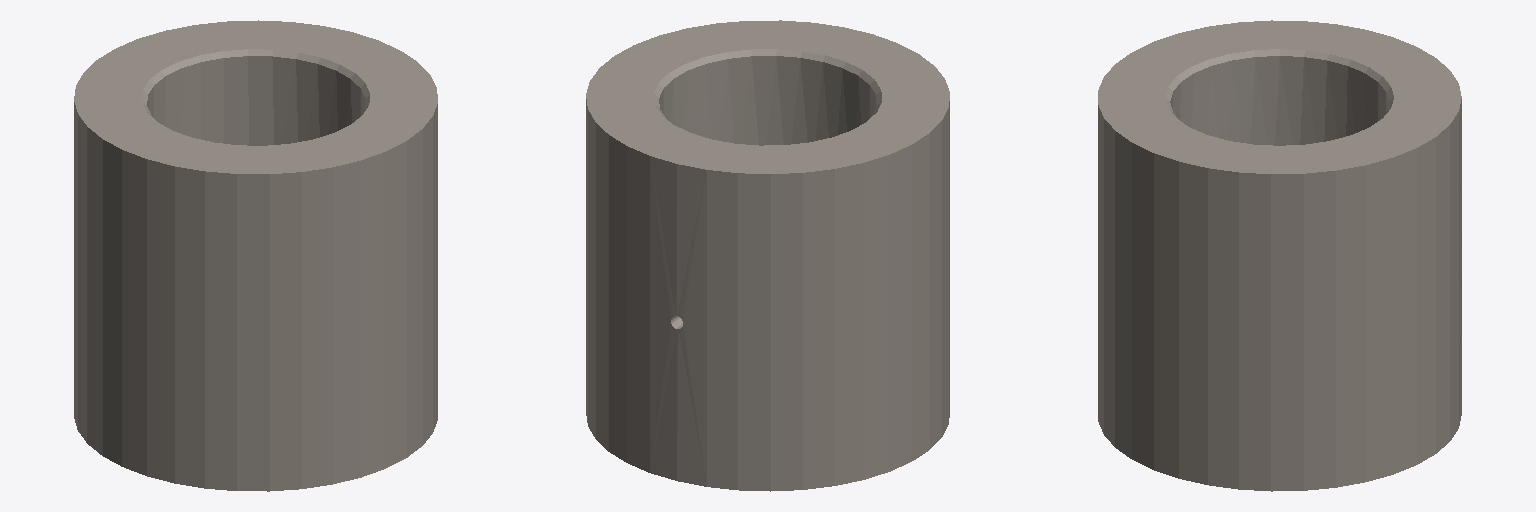
The robot description file, URDF, robot "hole.SLDPRT":
<robot
  name="hole.SLDPRT">
  <link name="hole">
    <inertial>
      <origin
        xyz="-4.3735E-11 -1.19539999999987E-05 0.021582"
        rpy="0 0 0" />
      <mass
        value="0.60699" />
      <inertia
        ixx="0.000216777802721257"
        ixy="-5.25084112893969E-13"
        ixz="-8.24312727996716E-14"
        iyy="0.000216902661958809"
        iyz="1.75405875164843E-08"
        izz="0.000214289433618235" />
    </inertial>
    <visual>
      <origin
        xyz="0 0 0"
        rpy="1.5707963267949 0 0" />
      <geometry>
        <mesh
          filename="package://sawyer_gazebo_env/models/hole/hole.STL" />
      </geometry>
      <material
        name="">
        <color
          rgba="0.64706 0.61961 0.58824 1" />
      </material>
    </visual>
    <collision>
      <origin
        xyz="0 0 0"
        rpy="1.5707963267949 0 0" />
      <geometry>
        <mesh
          filename="package://sawyer_gazebo_env/models/hole/hole.STL" />
      </geometry>
    </collision>
  </link>
  <gazebo reference="peg">
      <material>Gazebo/Grey</material>
      <mu1>1000</mu1>
      <mu2>1000</mu2>
  </gazebo>
</robot>

--- Render facts (derived) ---
The picture shows the robot from 3 angles, left to right: view 1: azimuth 30°, elevation 25°; view 2: azimuth 150°, elevation 25°; view 3: azimuth 270°, elevation 25°; orthographic projection.
Robot: hole.SLDPRT — 1 links, 0 joints (none); root link hole; default pose: every joint at zero.
Links seen in each view (by area): view 1: hole; view 2: hole; view 3: hole.
Link boxes in pixels (<box>): hole: <box>74,20,437,491</box>; hole: <box>586,20,949,491</box>; hole: <box>1098,20,1461,491</box>.
Bounding box of the posed robot: 0.0499 × 0.0499 × 0.048 m (x, y, z).
Meshes: 1 distinct files referenced, 1 mesh visuals loaded (1 binary STL).